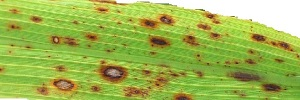RiceBrownSpot: (138, 4, 224, 52), (37, 59, 127, 100), (242, 29, 298, 72), (45, 27, 103, 49), (164, 86, 198, 100)
